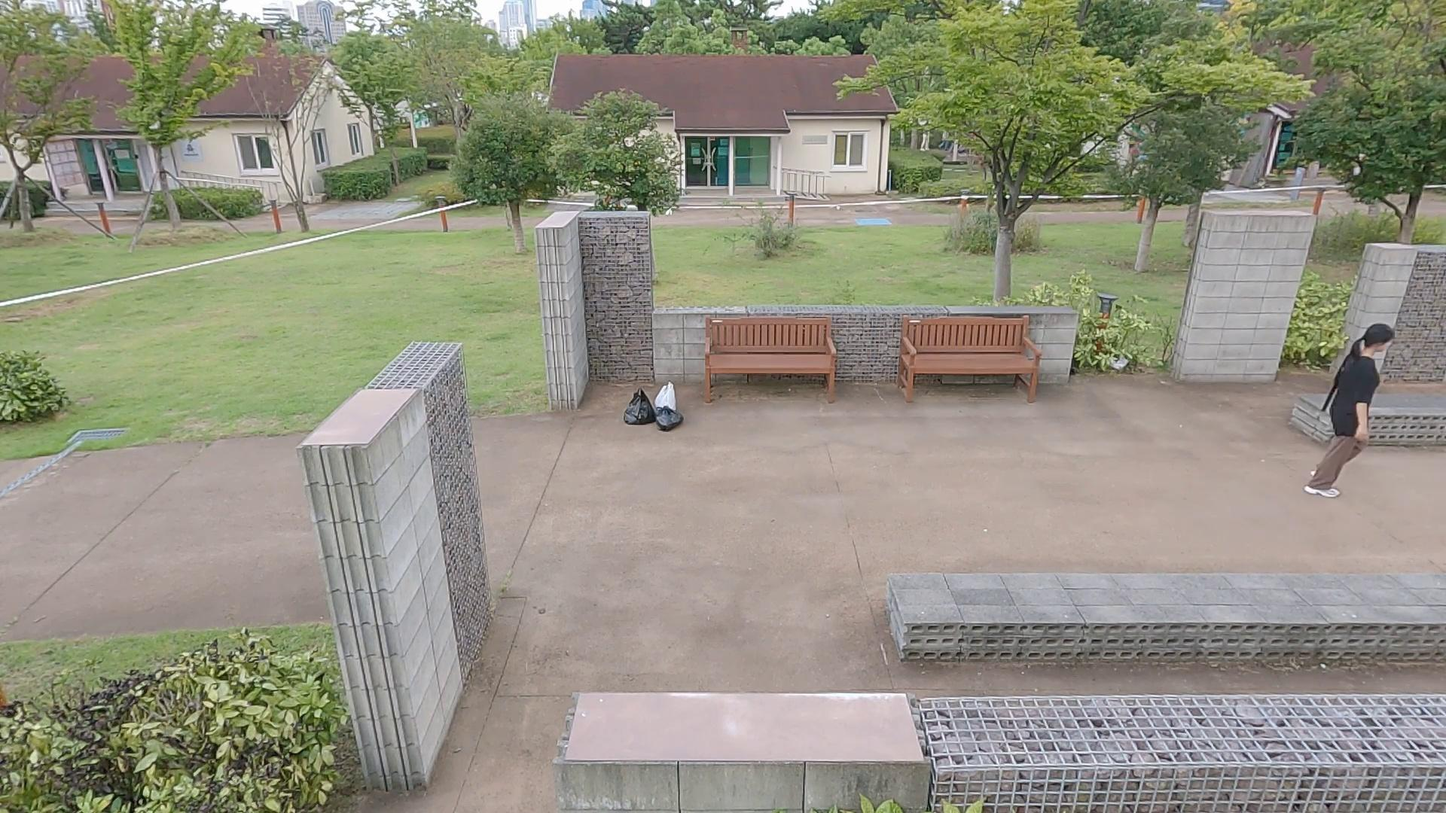person: (1303, 320, 1401, 497)
trash: (623, 386, 660, 426), (650, 380, 681, 414), (654, 402, 685, 432)
